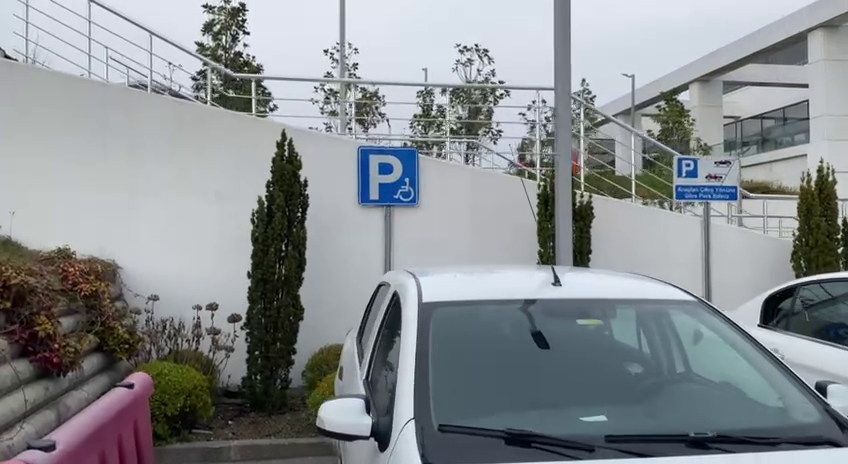parking: (356, 145, 420, 207), (674, 155, 700, 180)
